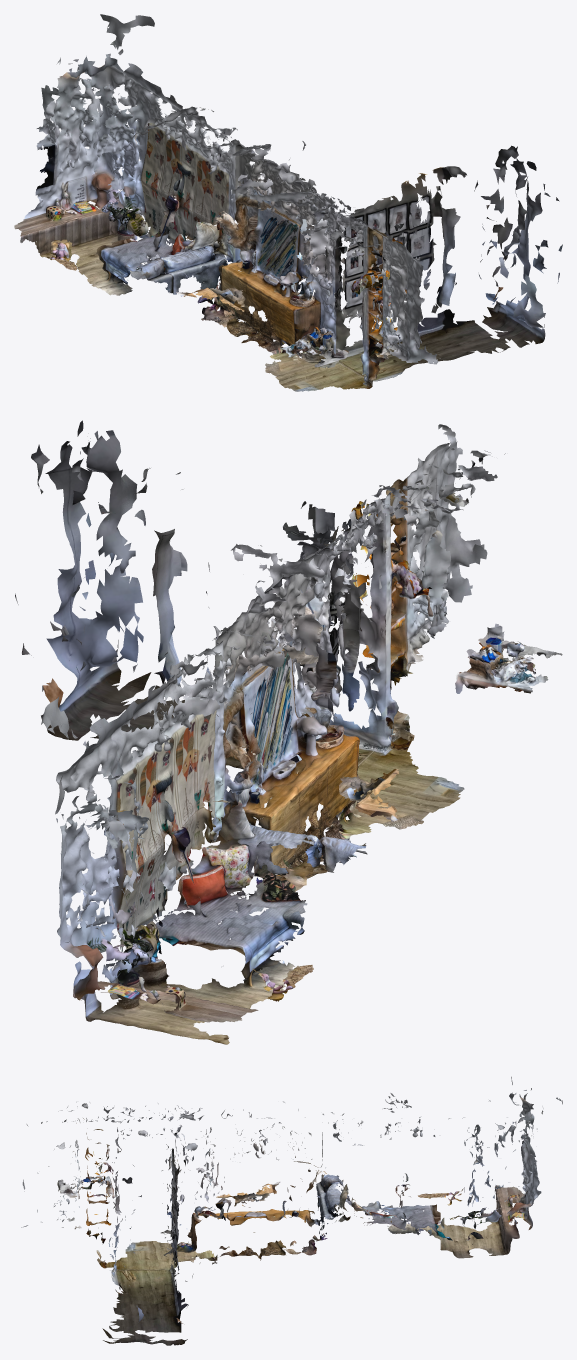
Rendered from 146267-LivingRoom2-tex.glb.
3 views of the same model, one above another, from view 1: azimuth 30°, elevation 25°; view 2: azimuth 150°, elevation 25°; view 3: azimuth 270°, elevation 25° (orthographic). The views are drawn at different scales.
Visible parts, largest first — view 1: Node; view 2: Node; view 3: Node.
Part boxes in pixels (box(x1,y1,x2,y2)): Node: box(14, 14, 562, 391); Node: box(15, 420, 562, 1044); Node: box(21, 1076, 562, 1345).
Bounding box in the file's own units: 5.3 × 3.34 × 8.54.
Materials: 25 (25 with a texture image).
